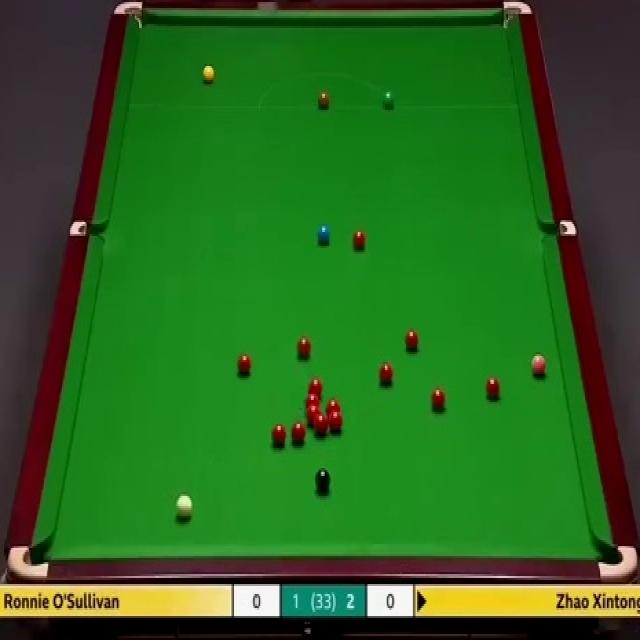black-ball: (315, 467, 331, 493)
blue-ball: (317, 224, 330, 242)
brown-ball: (317, 92, 330, 109)
green-ball: (382, 89, 396, 108)
pink-ball: (530, 354, 548, 378)
red-ball: (484, 376, 502, 400), (378, 361, 395, 385), (432, 388, 446, 414), (314, 414, 328, 439), (236, 354, 252, 375), (328, 411, 344, 432), (297, 335, 311, 359), (291, 421, 306, 443), (272, 423, 287, 445), (352, 230, 366, 252), (326, 398, 340, 416), (406, 330, 418, 350), (306, 408, 319, 426), (311, 377, 322, 398), (306, 397, 319, 413)
white-ball: (175, 493, 193, 522)
yellow-ball: (202, 64, 214, 85)
